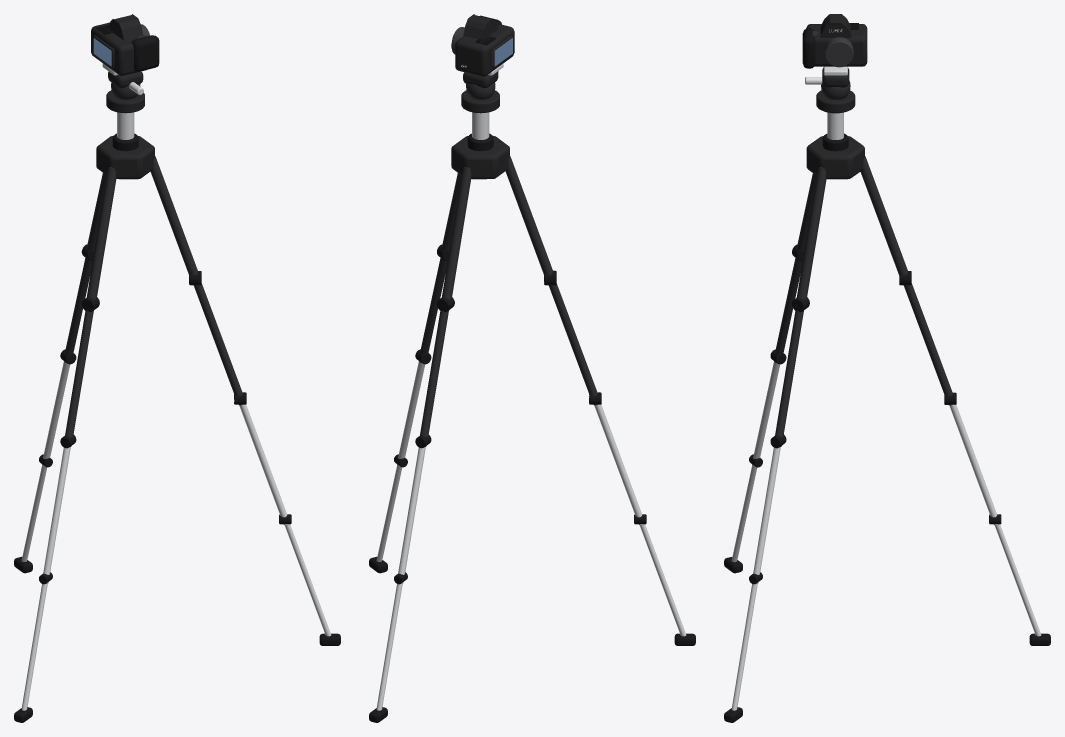
The model's file is panasonic_gh7_tripie_foto.glb.
The picture shows the model from 3 angles, left to right: view 1: azimuth 30°, elevation 25°; view 2: azimuth 150°, elevation 25°; view 3: azimuth 270°, elevation 25°; orthographic projection.
Parts seen in each view (by area): view 1: Panasonic Lumix GH7 en tripié de foto; view 2: Panasonic Lumix GH7 en tripié de foto; view 3: Panasonic Lumix GH7 en tripié de foto.
Part boxes in pixels (box(x1,y1,x2,y2)): Panasonic Lumix GH7 en tripié de foto: box(14, 14, 340, 722); Panasonic Lumix GH7 en tripié de foto: box(369, 14, 695, 722); Panasonic Lumix GH7 en tripié de foto: box(724, 14, 1050, 722).
Bounding box in the file's own units: 0.7915 × 1.45 × 0.6873.
